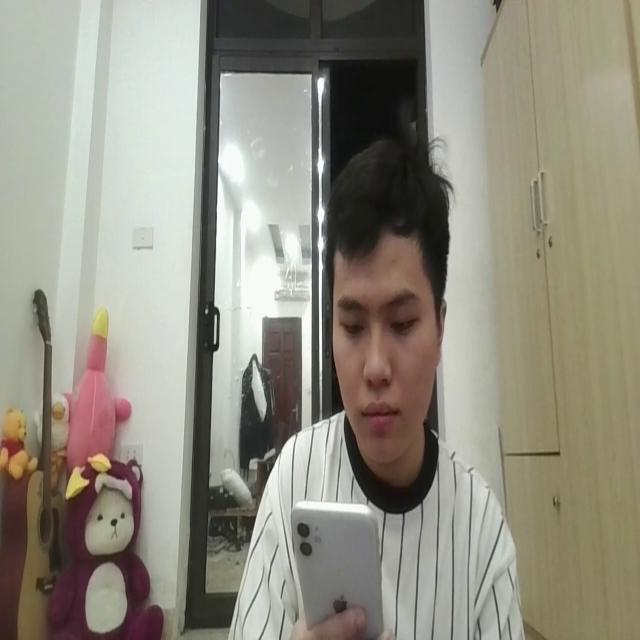phone: (290, 484, 382, 640)
student: (234, 132, 523, 640)
